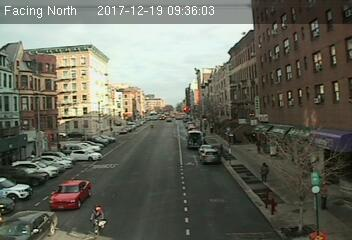car: (48, 179, 92, 210), (186, 130, 204, 151), (199, 147, 220, 164)
pedestrian: (261, 161, 271, 190)
